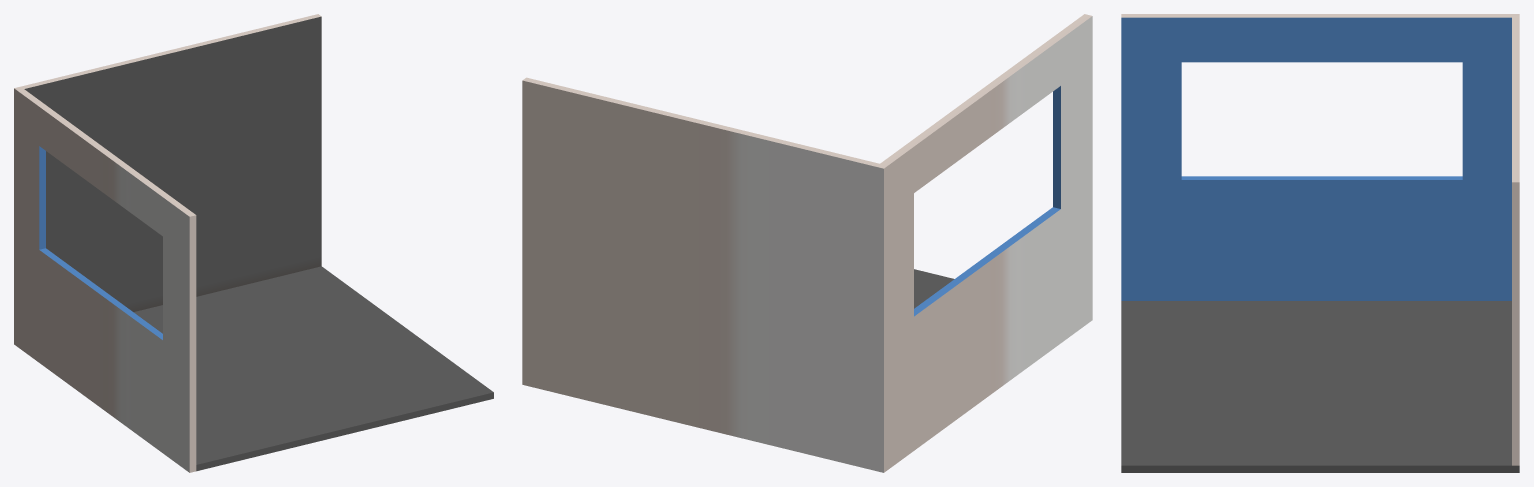
File: Livingroom2_Base.fbx
3 renders of one model, left to right at view 1: azimuth 30°, elevation 25°; view 2: azimuth 150°, elevation 25°; view 3: azimuth 270°, elevation 25°, orthographic. The views are drawn at different scales.
Parts seen in each view (by area): view 1: Livingroom2_Base; view 2: Livingroom2_Base; view 3: Livingroom2_Base.
Boxes of the visible parts, x1,y1,x2,y2 form: Livingroom2_Base: (14,14,493,472); Livingroom2_Base: (522,14,1092,472); Livingroom2_Base: (1121,14,1519,472).
Size of the model in its own units: 500 by 402 by 500.
